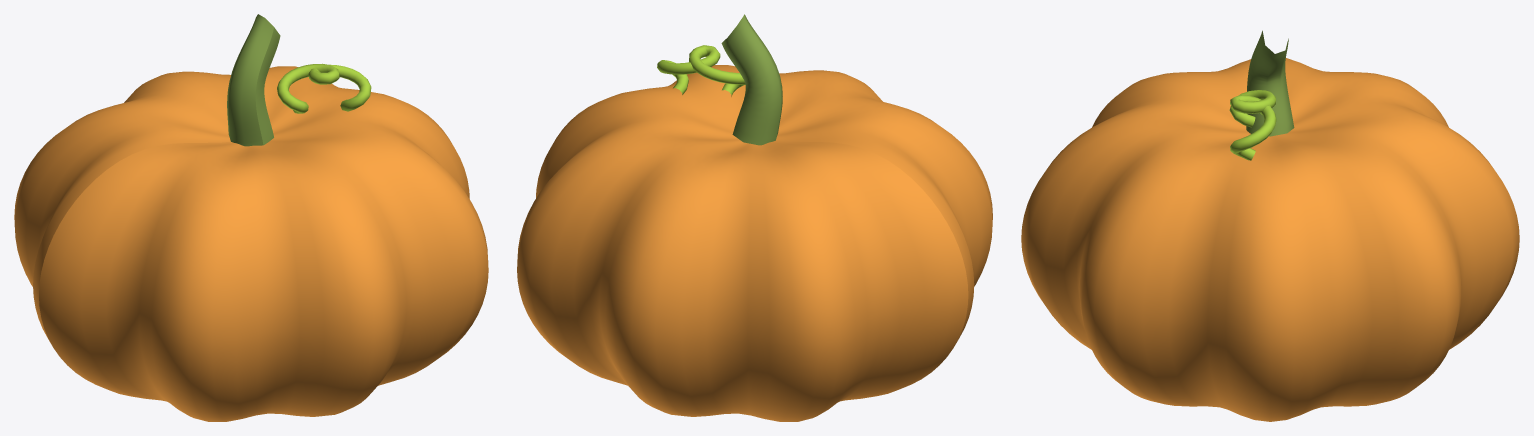
The model's file is pumpkin.glb.
3 views of the same model, side by side, from view 1: azimuth 30°, elevation 25°; view 2: azimuth 150°, elevation 25°; view 3: azimuth 270°, elevation 25° (orthographic).
Parts seen in each view (by area): view 1: Pumpkin_Body, Chibi_Pumpkin; view 2: Pumpkin_Body, Chibi_Pumpkin; view 3: Pumpkin_Body, Chibi_Pumpkin.
Boxes of the visible parts, x1,y1,x2,y2 form: Pumpkin_Body: (14,66,488,421); Chibi_Pumpkin: (227,14,371,146); Pumpkin_Body: (517,65,992,421); Chibi_Pumpkin: (657,14,782,145); Pumpkin_Body: (1021,58,1519,421); Chibi_Pumpkin: (1229,30,1294,160).
Bounding box in the file's own units: 2.28 × 1.79 × 2.28.
